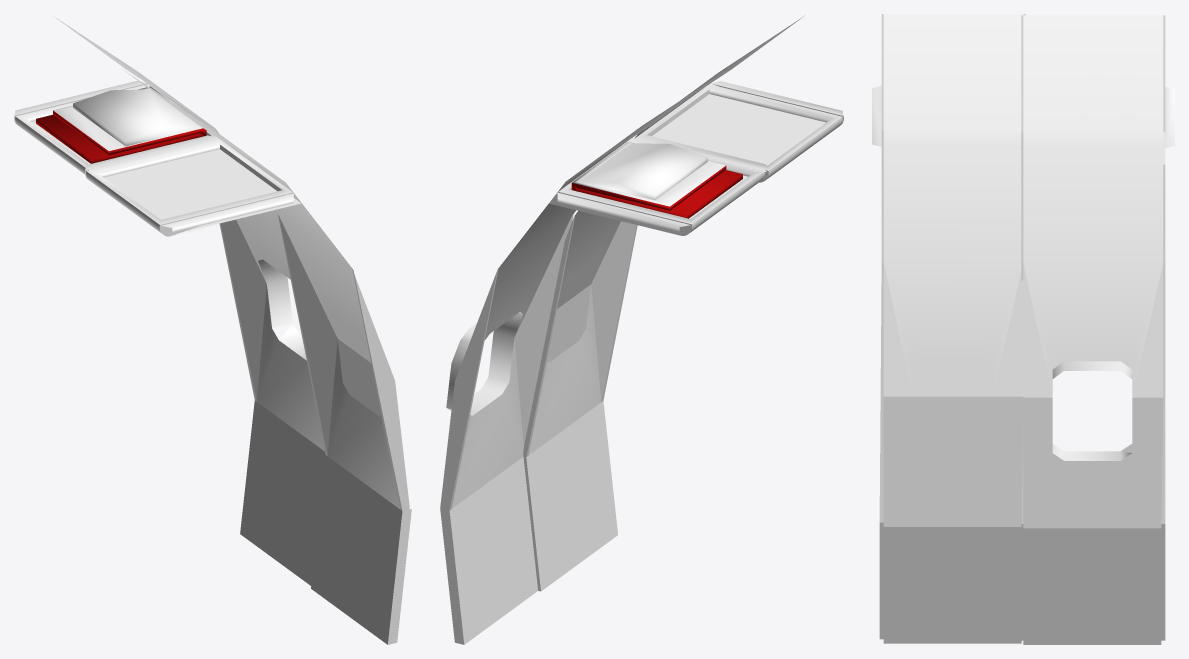
File: Paredes3.dae
3 views of the same model, side by side, from view 1: azimuth 30°, elevation 25°; view 2: azimuth 150°, elevation 25°; view 3: azimuth 270°, elevation 25° (orthographic). The views are drawn at different scales.
Parts seen in each view (by area): view 1: Group_001.002, Group_001.003, Group_008.001; view 2: Group_001.002, Group_001.003, Group_008.001; view 3: Group_001.002, Group_001.003.
Part boxes in pixels (x1,y1,x2,y2): Group_001.002: (85,70,411,644); Group_001.003: (14,16,325,585); Group_008.001: (36,86,206,163); Group_001.002: (523,16,843,591); Group_001.003: (440,69,765,644); Group_008.001: (571,141,742,218); Group_001.002: (872,14,1025,643); Group_001.003: (1017,15,1174,644).
Size of the model in its own units: 0.9293 by 0.9688 by 1.9.
